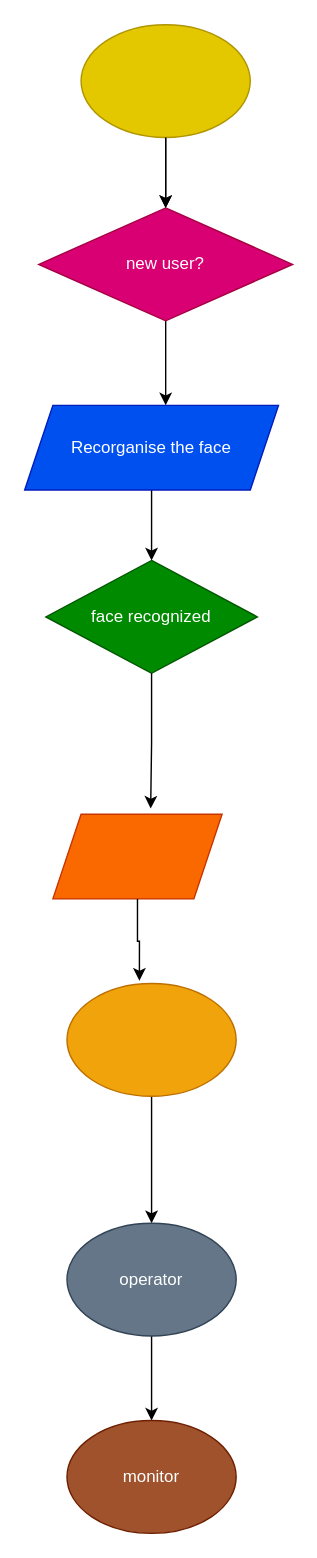
Image size: 317x1558. Some labels were removed from this diagram. Each missing label, with the centre of its shape:
"deploy" goes at (x=151, y=1039).
"start" goes at (x=165, y=80).
"stored in csv file date&time" goes at (x=136, y=856).
